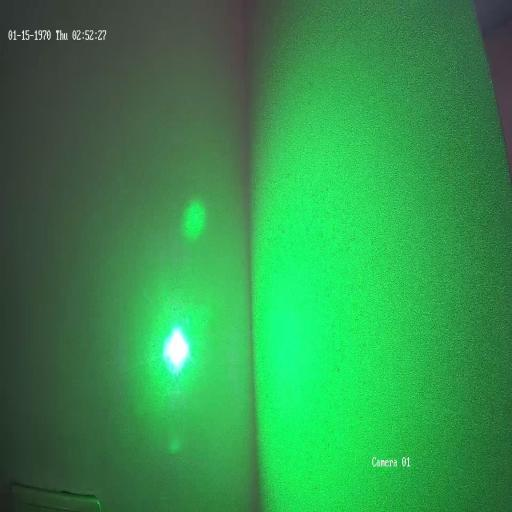laser: (156, 311, 196, 383)
